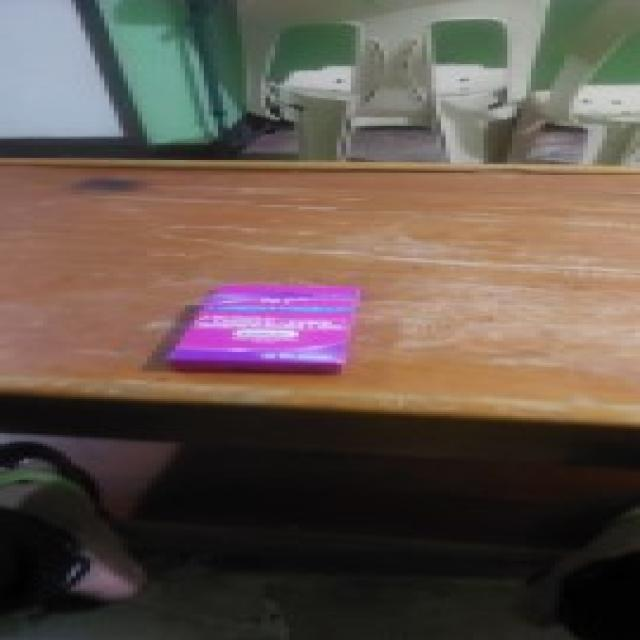Cacat: (190, 290, 356, 364)
